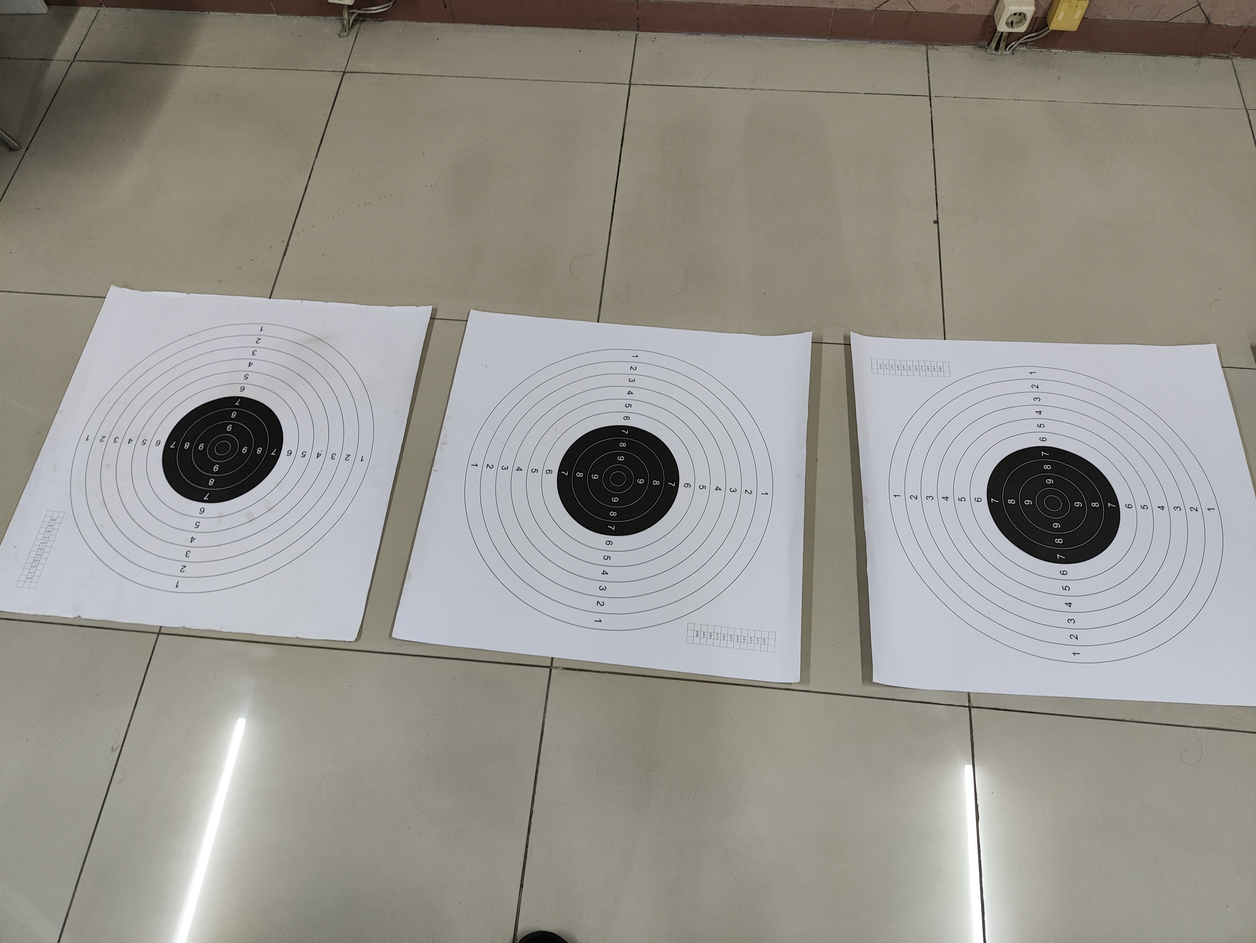target: (861, 334, 1239, 682), (445, 312, 788, 644), (49, 293, 391, 606)
